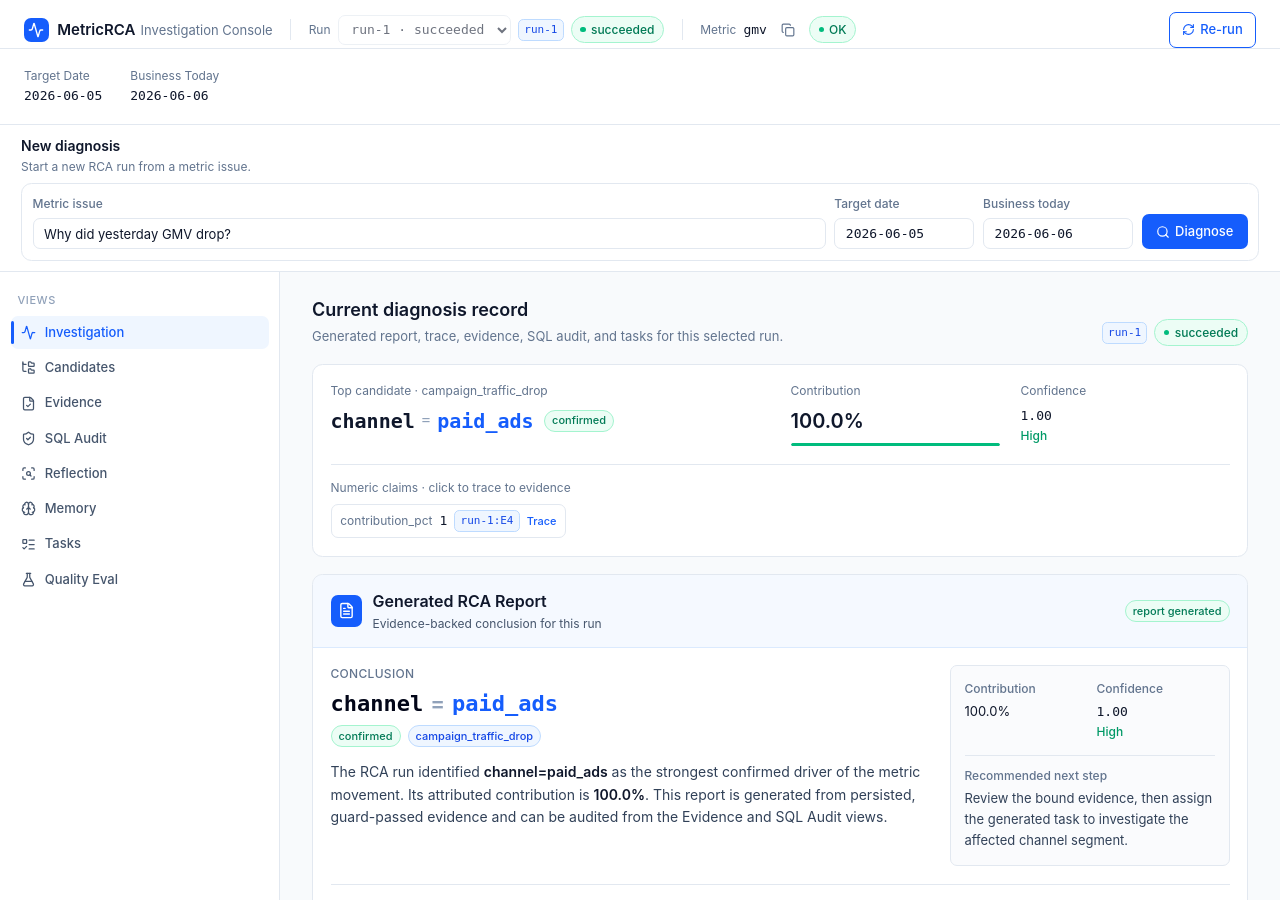
Test: MetricRCA investigation console › run history selector reloads the selected run artifacts
Click the button "Diagnose": x=1195, y=232 [1142, 214, 1248, 249]
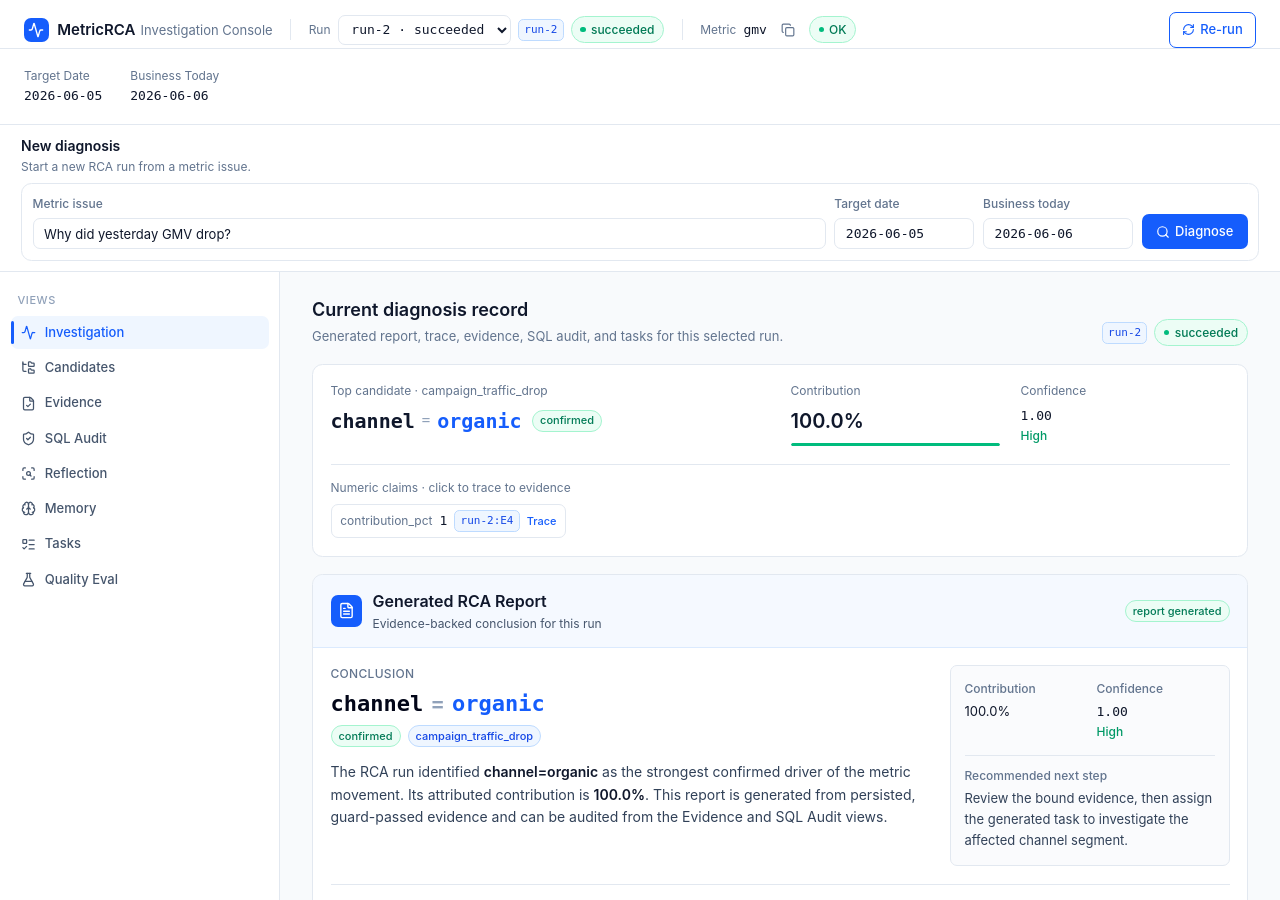
Now the text "organic" below "Top candidate ·" is shown, box [437, 408, 522, 432]
Select "run-1 · succeeded" in the dropdown named "Run history": x=424, y=30 [338, 15, 511, 44]
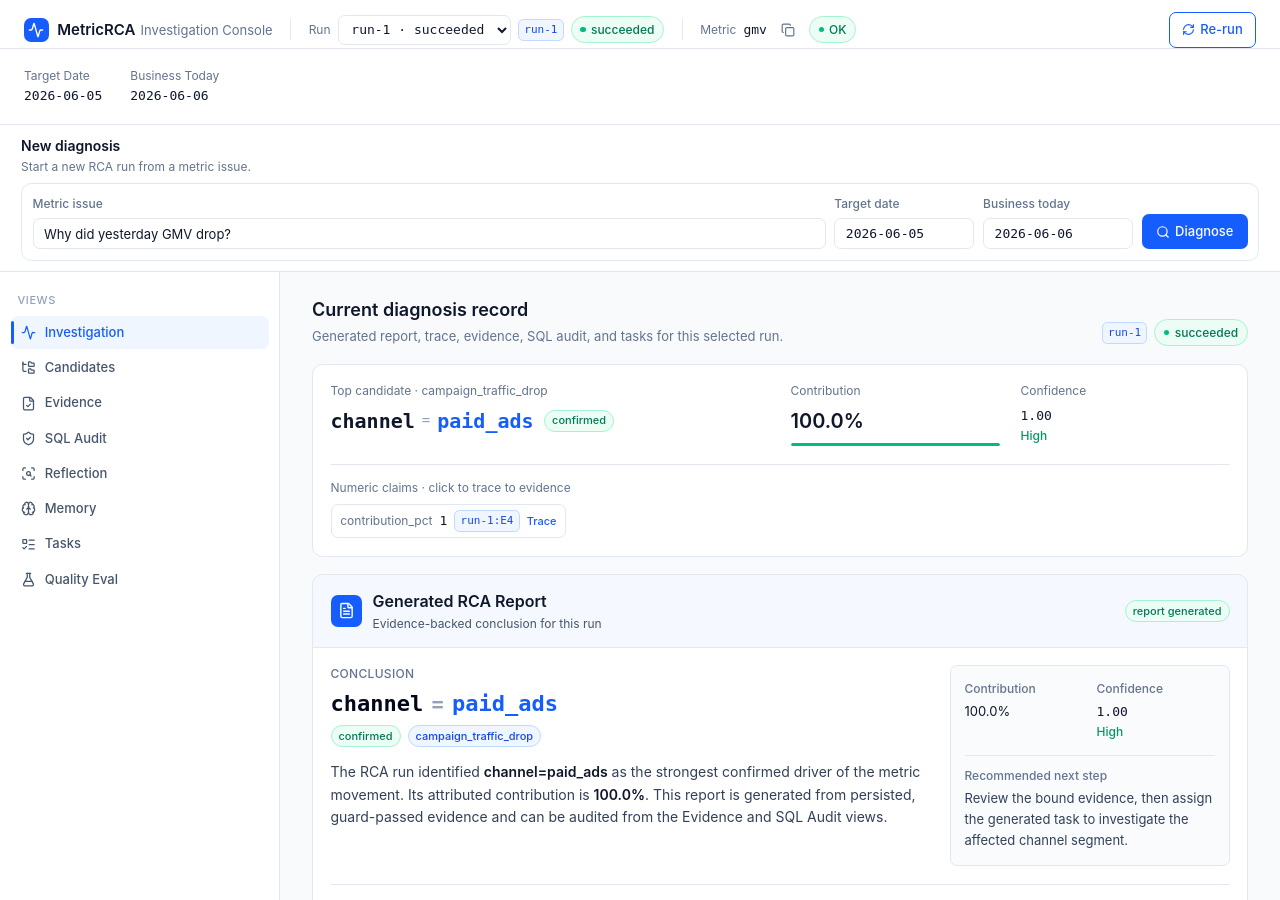
Now the text "paid_ads" below "Top candidate ·" is shown, box [437, 408, 534, 432]
